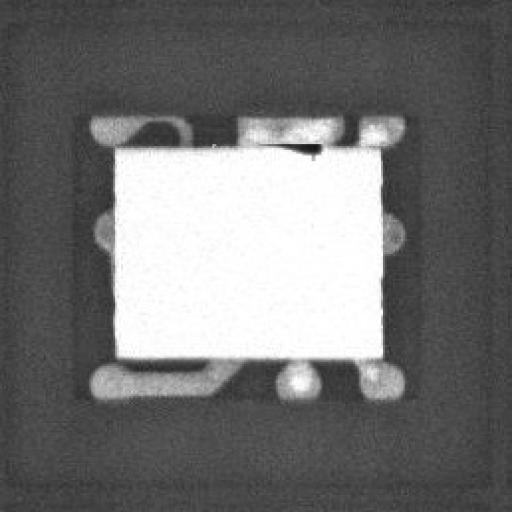DIE_BROKEN: (282, 138, 323, 160)
